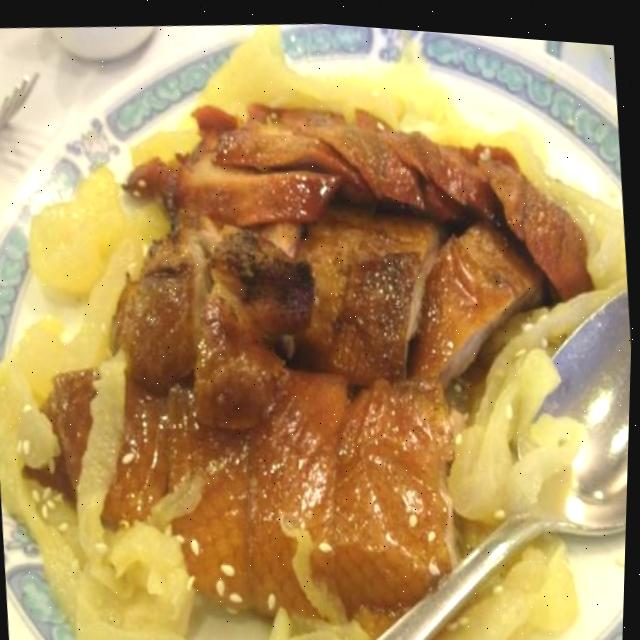烧串烤肉: (0, 9, 640, 640)
